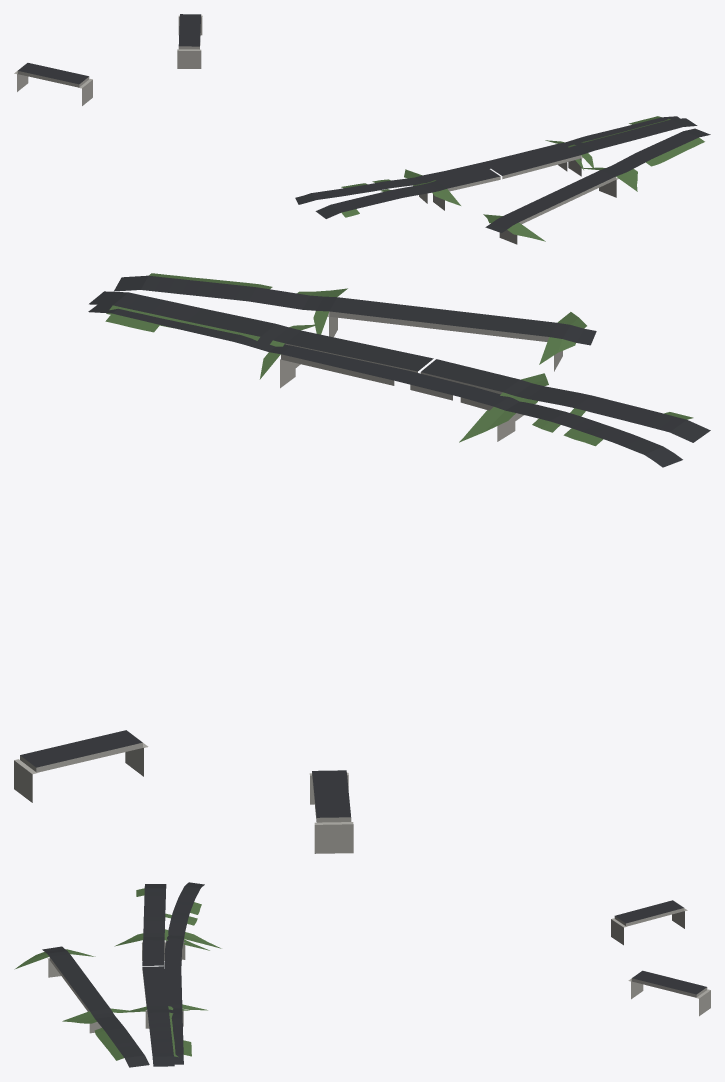
File: br_n260_scona_connors_lod2.gltf
3 views of the same model, one above another, from view 1: azimuth 30°, elevation 25°; view 2: azimuth 150°, elevation 25°; view 3: azimuth 270°, elevation 25° (orthographic). The views are drawn at different scales.
Parts seen in each view (by area): view 1: br_n260_scona_connors_lod2; view 2: br_n260_scona_connors_lod2; view 3: br_n260_scona_connors_lod2.
Part boxes in pixels (box(x1,y1,x2,y2)): br_n260_scona_connors_lod2: box(14, 14, 710, 244); br_n260_scona_connors_lod2: box(14, 273, 710, 853); br_n260_scona_connors_lod2: box(14, 882, 710, 1067).
Bounding box in the file's own units: 224 × 31.02 × 325.
